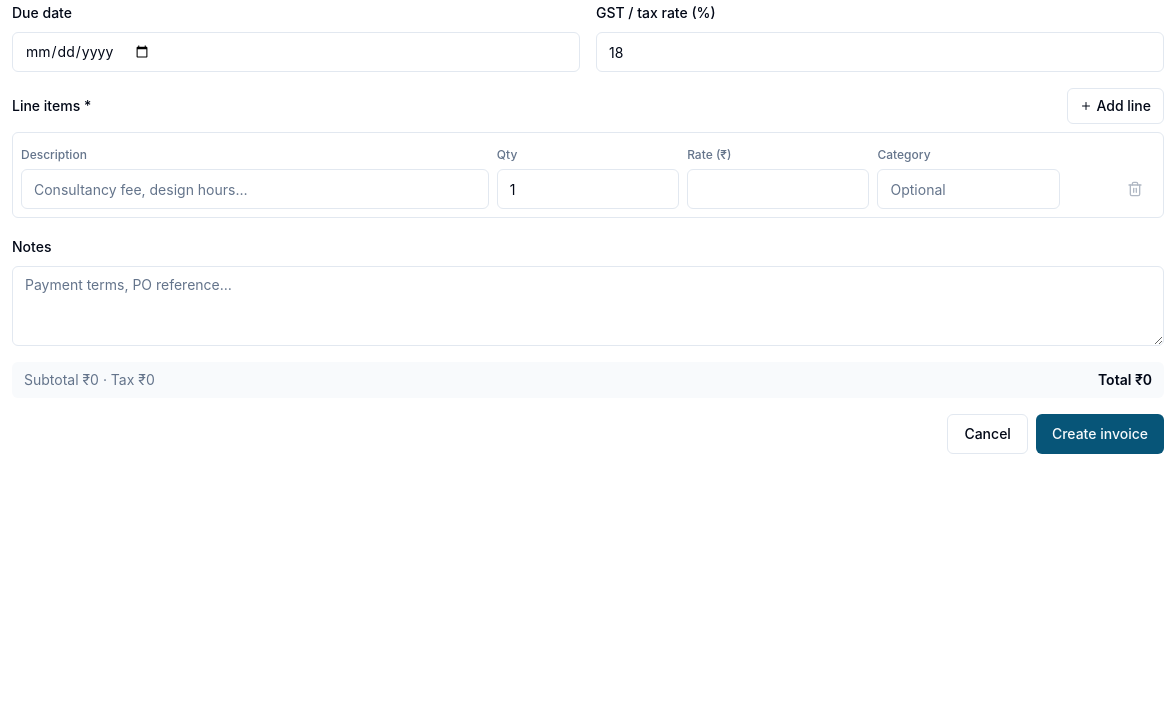
Scenario: InvoiceCreateForm › validates required description for each line
The image size is (1176, 720).
Click the button "Create invoice". click: point(1100, 434)
box: [1036,414,1164,454]
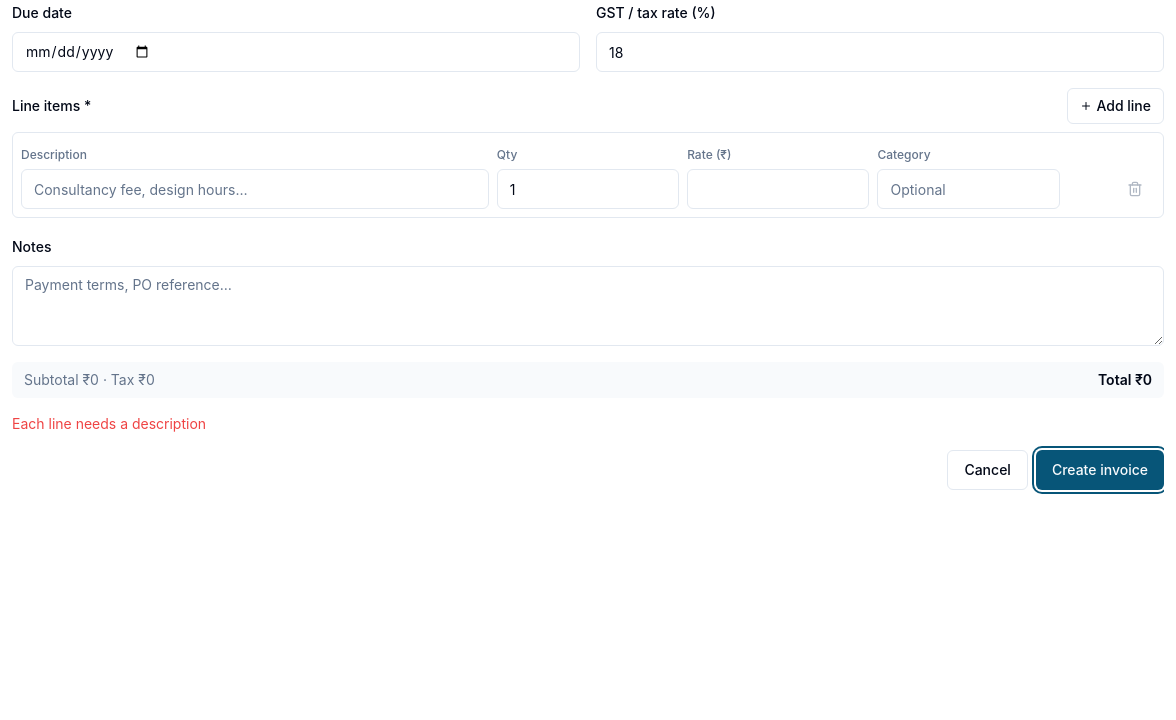
Expected: the text "Each line needs a description" is shown, [12,415,206,432]
